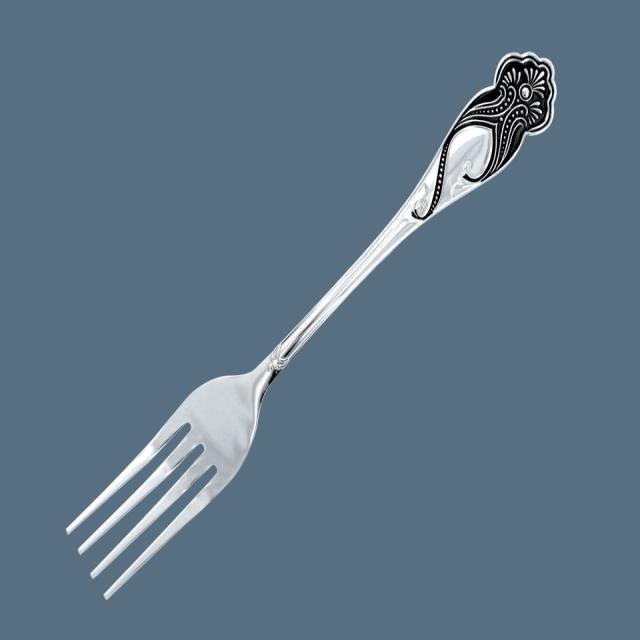plastic utensil: (68, 53, 555, 598)
